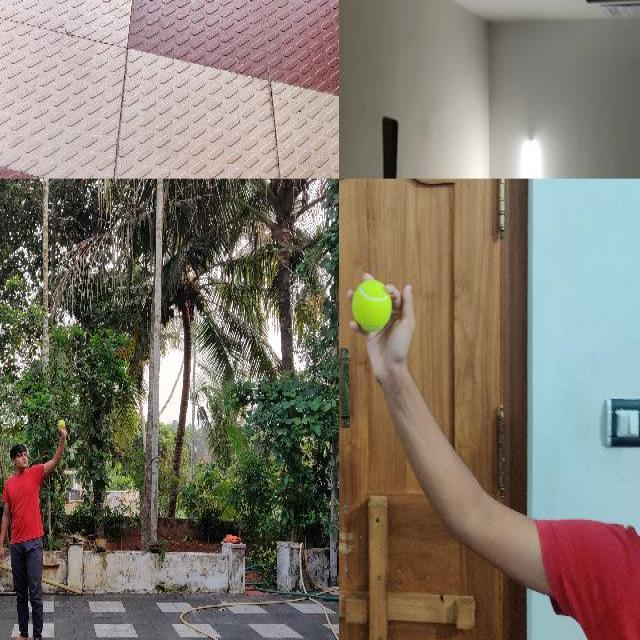tennis-ball: (352, 278, 392, 332), (59, 420, 65, 428)
